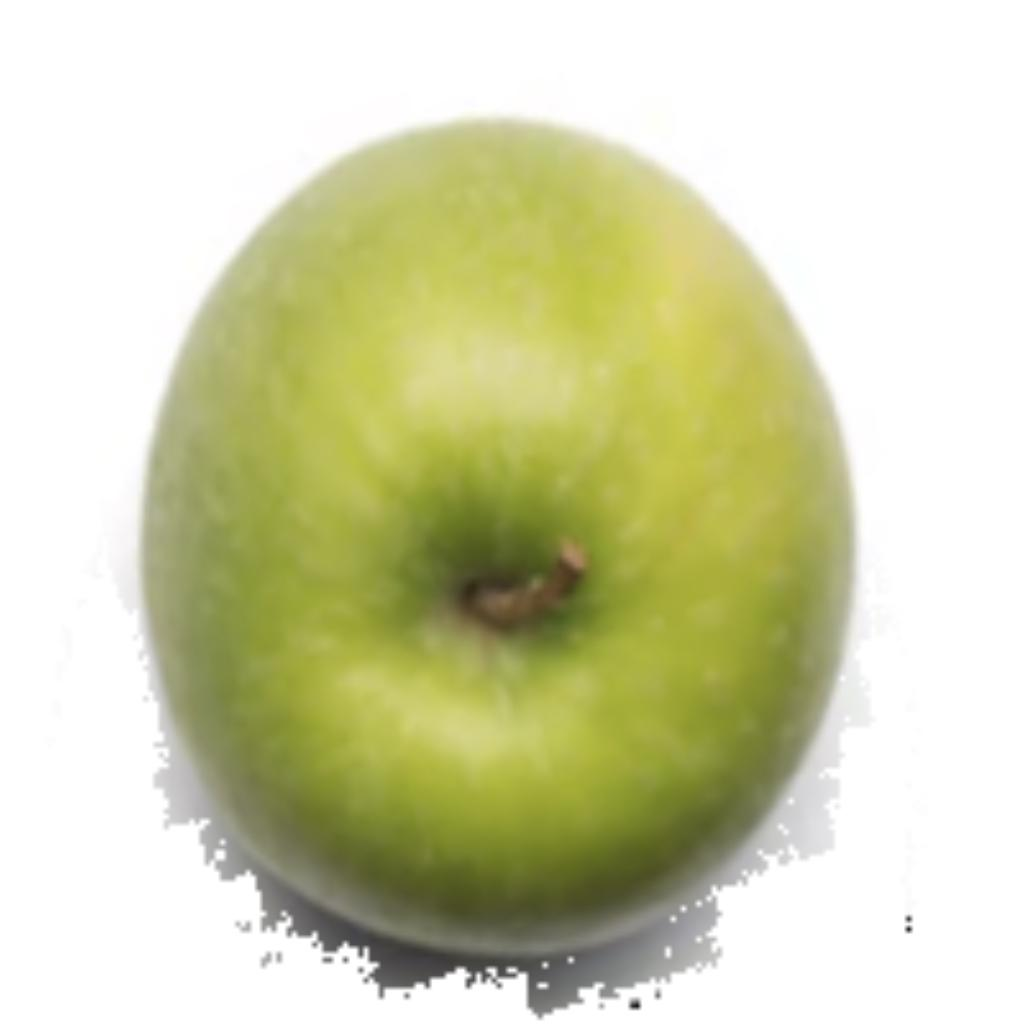apple: (90, 108, 891, 1019)
